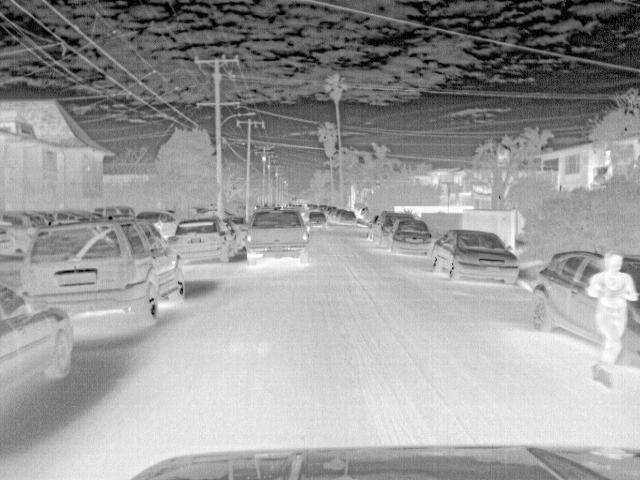car: (25, 215, 191, 329), (529, 254, 640, 362), (1, 285, 76, 422), (431, 229, 525, 283), (245, 210, 308, 266), (166, 219, 242, 265), (2, 209, 48, 253), (388, 220, 436, 255), (134, 209, 180, 237), (375, 213, 417, 240), (94, 204, 136, 222), (224, 218, 245, 250), (304, 212, 331, 230), (338, 211, 359, 225)
person: (587, 251, 638, 390)
